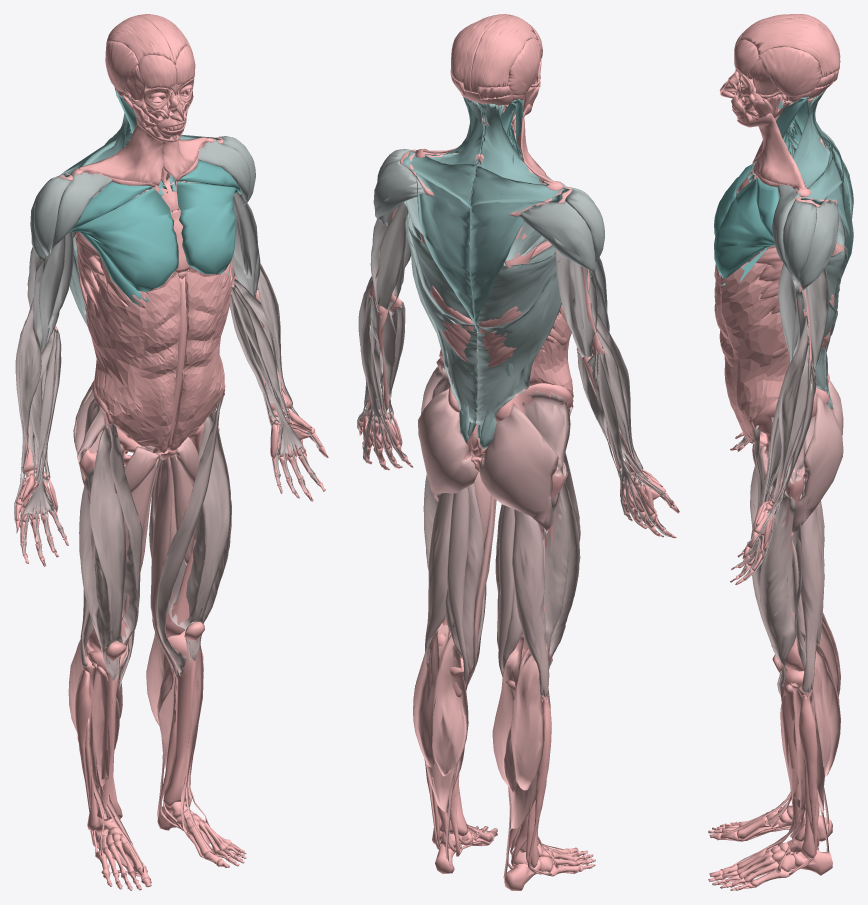
File: musculos.glb
The picture shows the model from 3 angles, left to right: view 1: azimuth 30°, elevation 25°; view 2: azimuth 150°, elevation 25°; view 3: azimuth 270°, elevation 25°; orthographic projection. The views are drawn at different scales.
Parts seen in each view (by area): view 1: quads, obliques, base, bone, chest, forearms, adductors, shoulders, biceps, tibialis, calves, abductors (+2 smaller); view 2: traps, base, hamstrings, back, calves, bone, glutes, forearms, shoulders, triceps, quads, abductors (+5 smaller); view 3: base, bone, obliques, quads, forearms, chest, shoulders, hamstrings, traps, calves, glutes, tibialis (+5 smaller).
Boxes of the visible parts, <box> form: quads: <box>79,395,231,690</box>; obliques: <box>86,258,232,453</box>; base: <box>19,14,312,886</box>; bone: <box>15,64,328,890</box>; chest: <box>69,160,241,305</box>; forearms: <box>14,263,322,557</box>; adductors: <box>114,437,199,690</box>; shoulders: <box>30,136,255,262</box>; biceps: <box>32,191,260,352</box>; tibialis: <box>88,638,215,872</box>; calves: <box>68,632,176,819</box>; abductors: <box>76,385,218,462</box>; traps: <box>402,97,569,328</box>; base: <box>362,14,662,875</box>; hamstrings: <box>425,481,549,697</box>; back: <box>403,158,561,424</box>; calves: <box>413,623,544,880</box>; bone: <box>358,60,679,890</box>; glutes: <box>418,389,558,533</box>; forearms: <box>357,276,674,536</box>; shoulders: <box>373,149,604,277</box>; triceps: <box>370,202,597,394</box>; quads: <box>423,406,580,686</box>; abductors: <box>421,365,570,478</box>; base: <box>715,14,840,890</box>; bone: <box>708,58,844,890</box>; obliques: <box>714,262,789,443</box>; quads: <box>750,425,802,695</box>; forearms: <box>735,315,815,580</box>; chest: <box>714,164,778,285</box>; shoulders: <box>772,131,838,291</box>; hamstrings: <box>792,478,824,694</box>; traps: <box>792,89,853,276</box>; calves: <box>810,612,840,852</box>; glutes: <box>791,380,843,535</box>; tibialis: <box>729,681,805,867</box>.
Bounding box in the file's own units: 0.6686 × 1.7 × 0.267.
